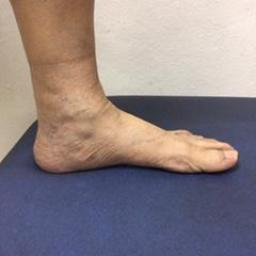Medial View -Left Foot-: (24, 75, 242, 194)
